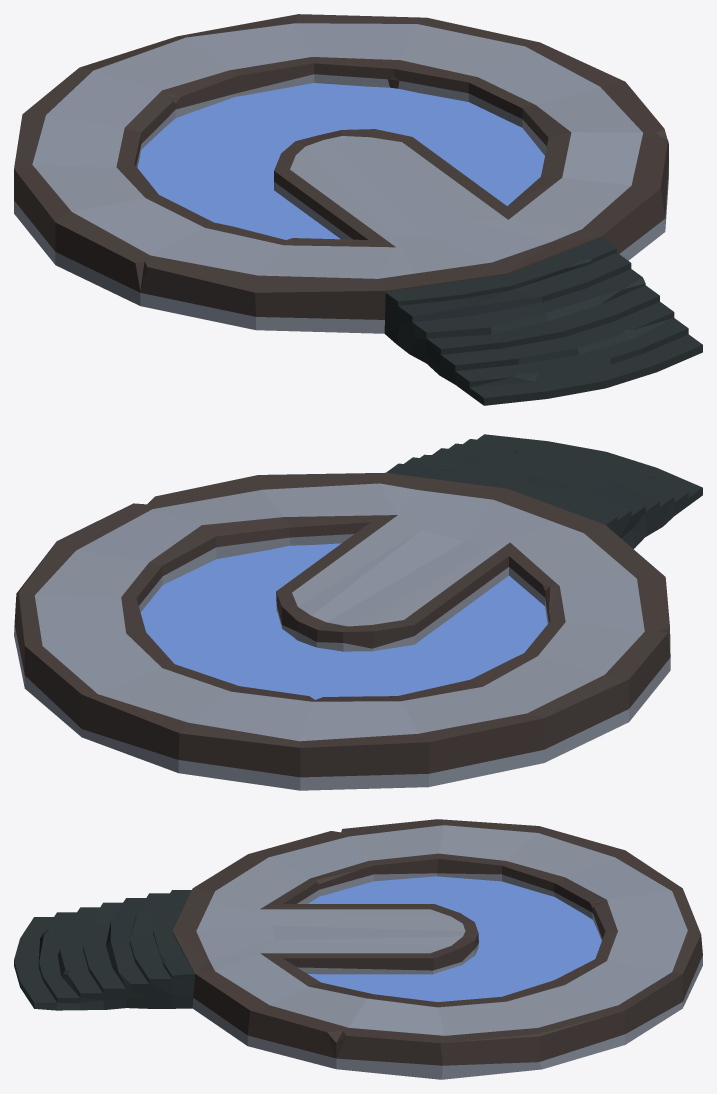
Rendered from Water Altair_1.fbx.
The picture shows the model from 3 angles, top to bottom: view 1: azimuth 30°, elevation 25°; view 2: azimuth 150°, elevation 25°; view 3: azimuth 270°, elevation 25°; orthographic projection. The views are drawn at different scales.
Parts seen in each view (by area): view 1: Water Altair_1; view 2: Water Altair_1; view 3: Water Altair_1.
Part boxes in pixels (bbox=[...]): Water Altair_1: bbox=[14, 14, 702, 405]; Water Altair_1: bbox=[14, 434, 702, 790]; Water Altair_1: bbox=[14, 819, 702, 1079].
Size of the model in its own units: 10.31 by 0.851 by 13.27.
